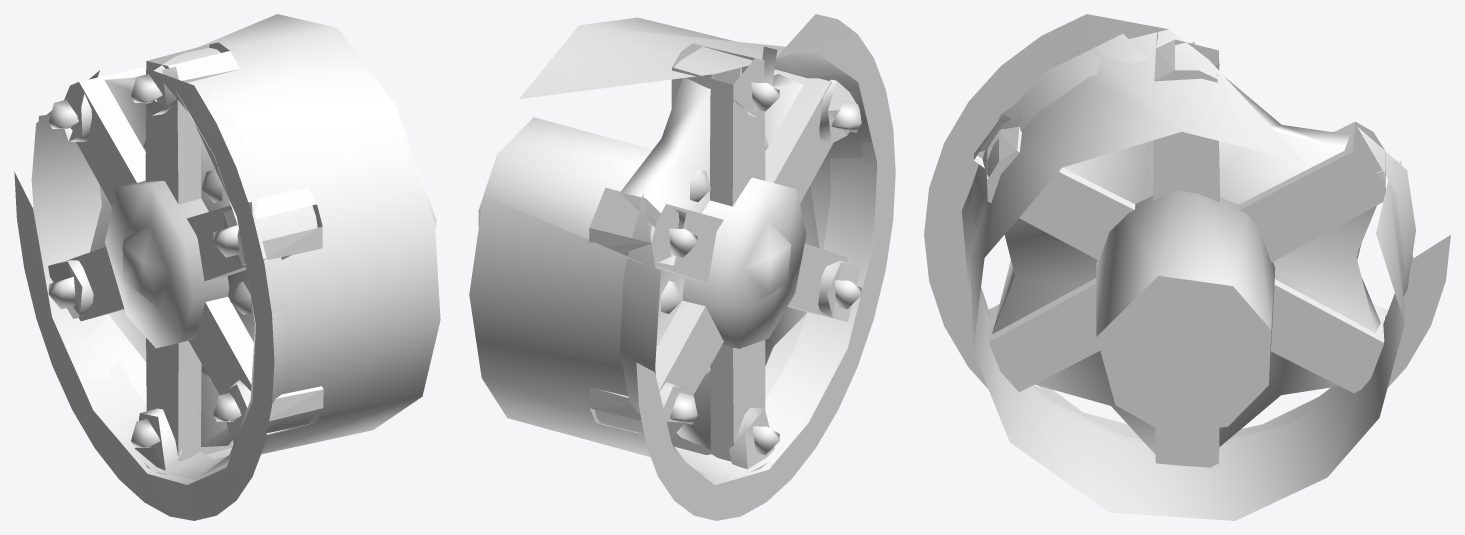
3 renders of one model, left to right at view 1: azimuth 30°, elevation 25°; view 2: azimuth 150°, elevation 25°; view 3: azimuth 270°, elevation 25°, orthographic.
Size of the model in its own units: 0.4103 by 0.6815 by 0.7085.
Materials: 1 (1 with a texture image).
